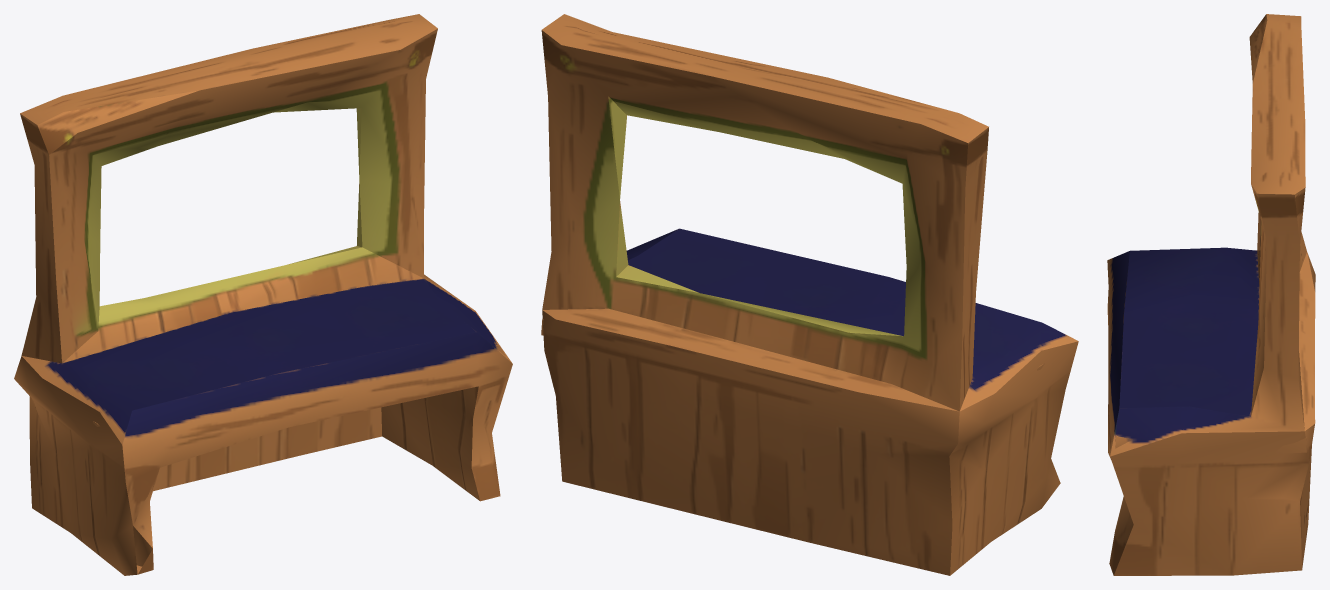
The model's file is harbor-window-seat.glb.
The picture shows the model from 3 angles, left to right: view 1: azimuth 30°, elevation 25°; view 2: azimuth 150°, elevation 25°; view 3: azimuth 270°, elevation 25°; orthographic projection. The views are drawn at different scales.
Parts seen in each view (by area): view 1: geometry_0; view 2: geometry_0; view 3: geometry_0.
Boxes of the visible parts, bbox=[...] form: geometry_0: bbox=[14, 14, 512, 575]; geometry_0: bbox=[541, 14, 1078, 575]; geometry_0: bbox=[1107, 14, 1315, 575].
Bounding box in the file's own units: 1 × 0.9892 × 0.4773.
1 material, 1 textured.
